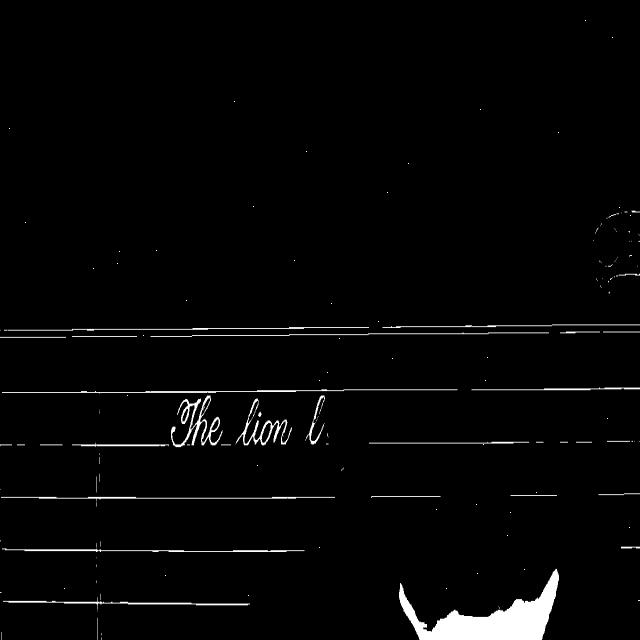hand: (399, 570, 558, 639)
noise: (0, 324, 640, 338), (0, 542, 304, 555), (4, 594, 250, 608), (0, 388, 465, 395), (0, 492, 336, 501), (468, 386, 640, 392), (92, 541, 101, 639), (368, 441, 636, 444), (371, 491, 441, 499), (510, 491, 558, 498), (95, 448, 102, 493), (596, 491, 640, 496), (68, 444, 170, 446), (622, 544, 640, 550), (0, 443, 26, 446), (39, 444, 67, 446)
not-noise: (171, 394, 232, 447), (230, 398, 295, 445), (300, 397, 320, 449)
page-marker: (592, 212, 640, 289)
